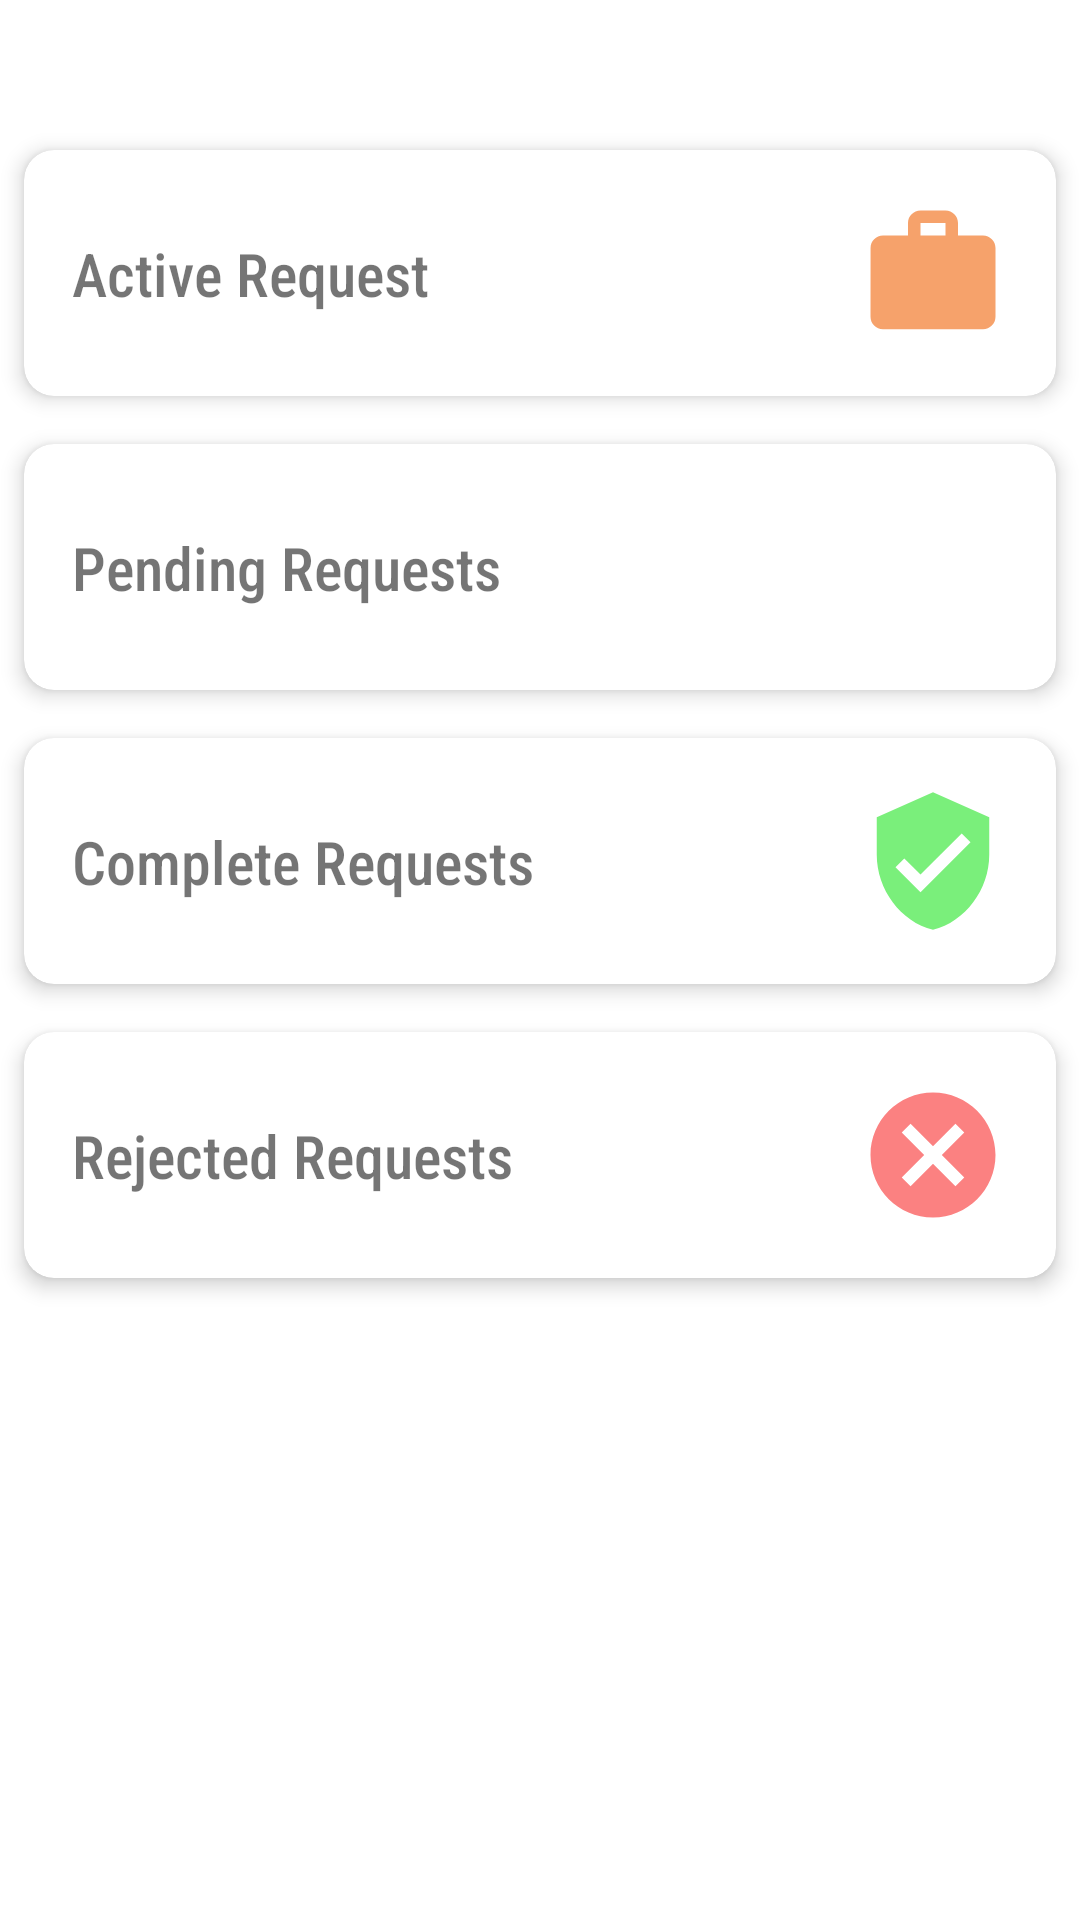

Icons on this 1080px×1920px Android screen, each with its box as region(x1, y1, x2, y2):
rejected: region(870, 1092, 996, 1218)
verified: region(876, 792, 990, 930)
